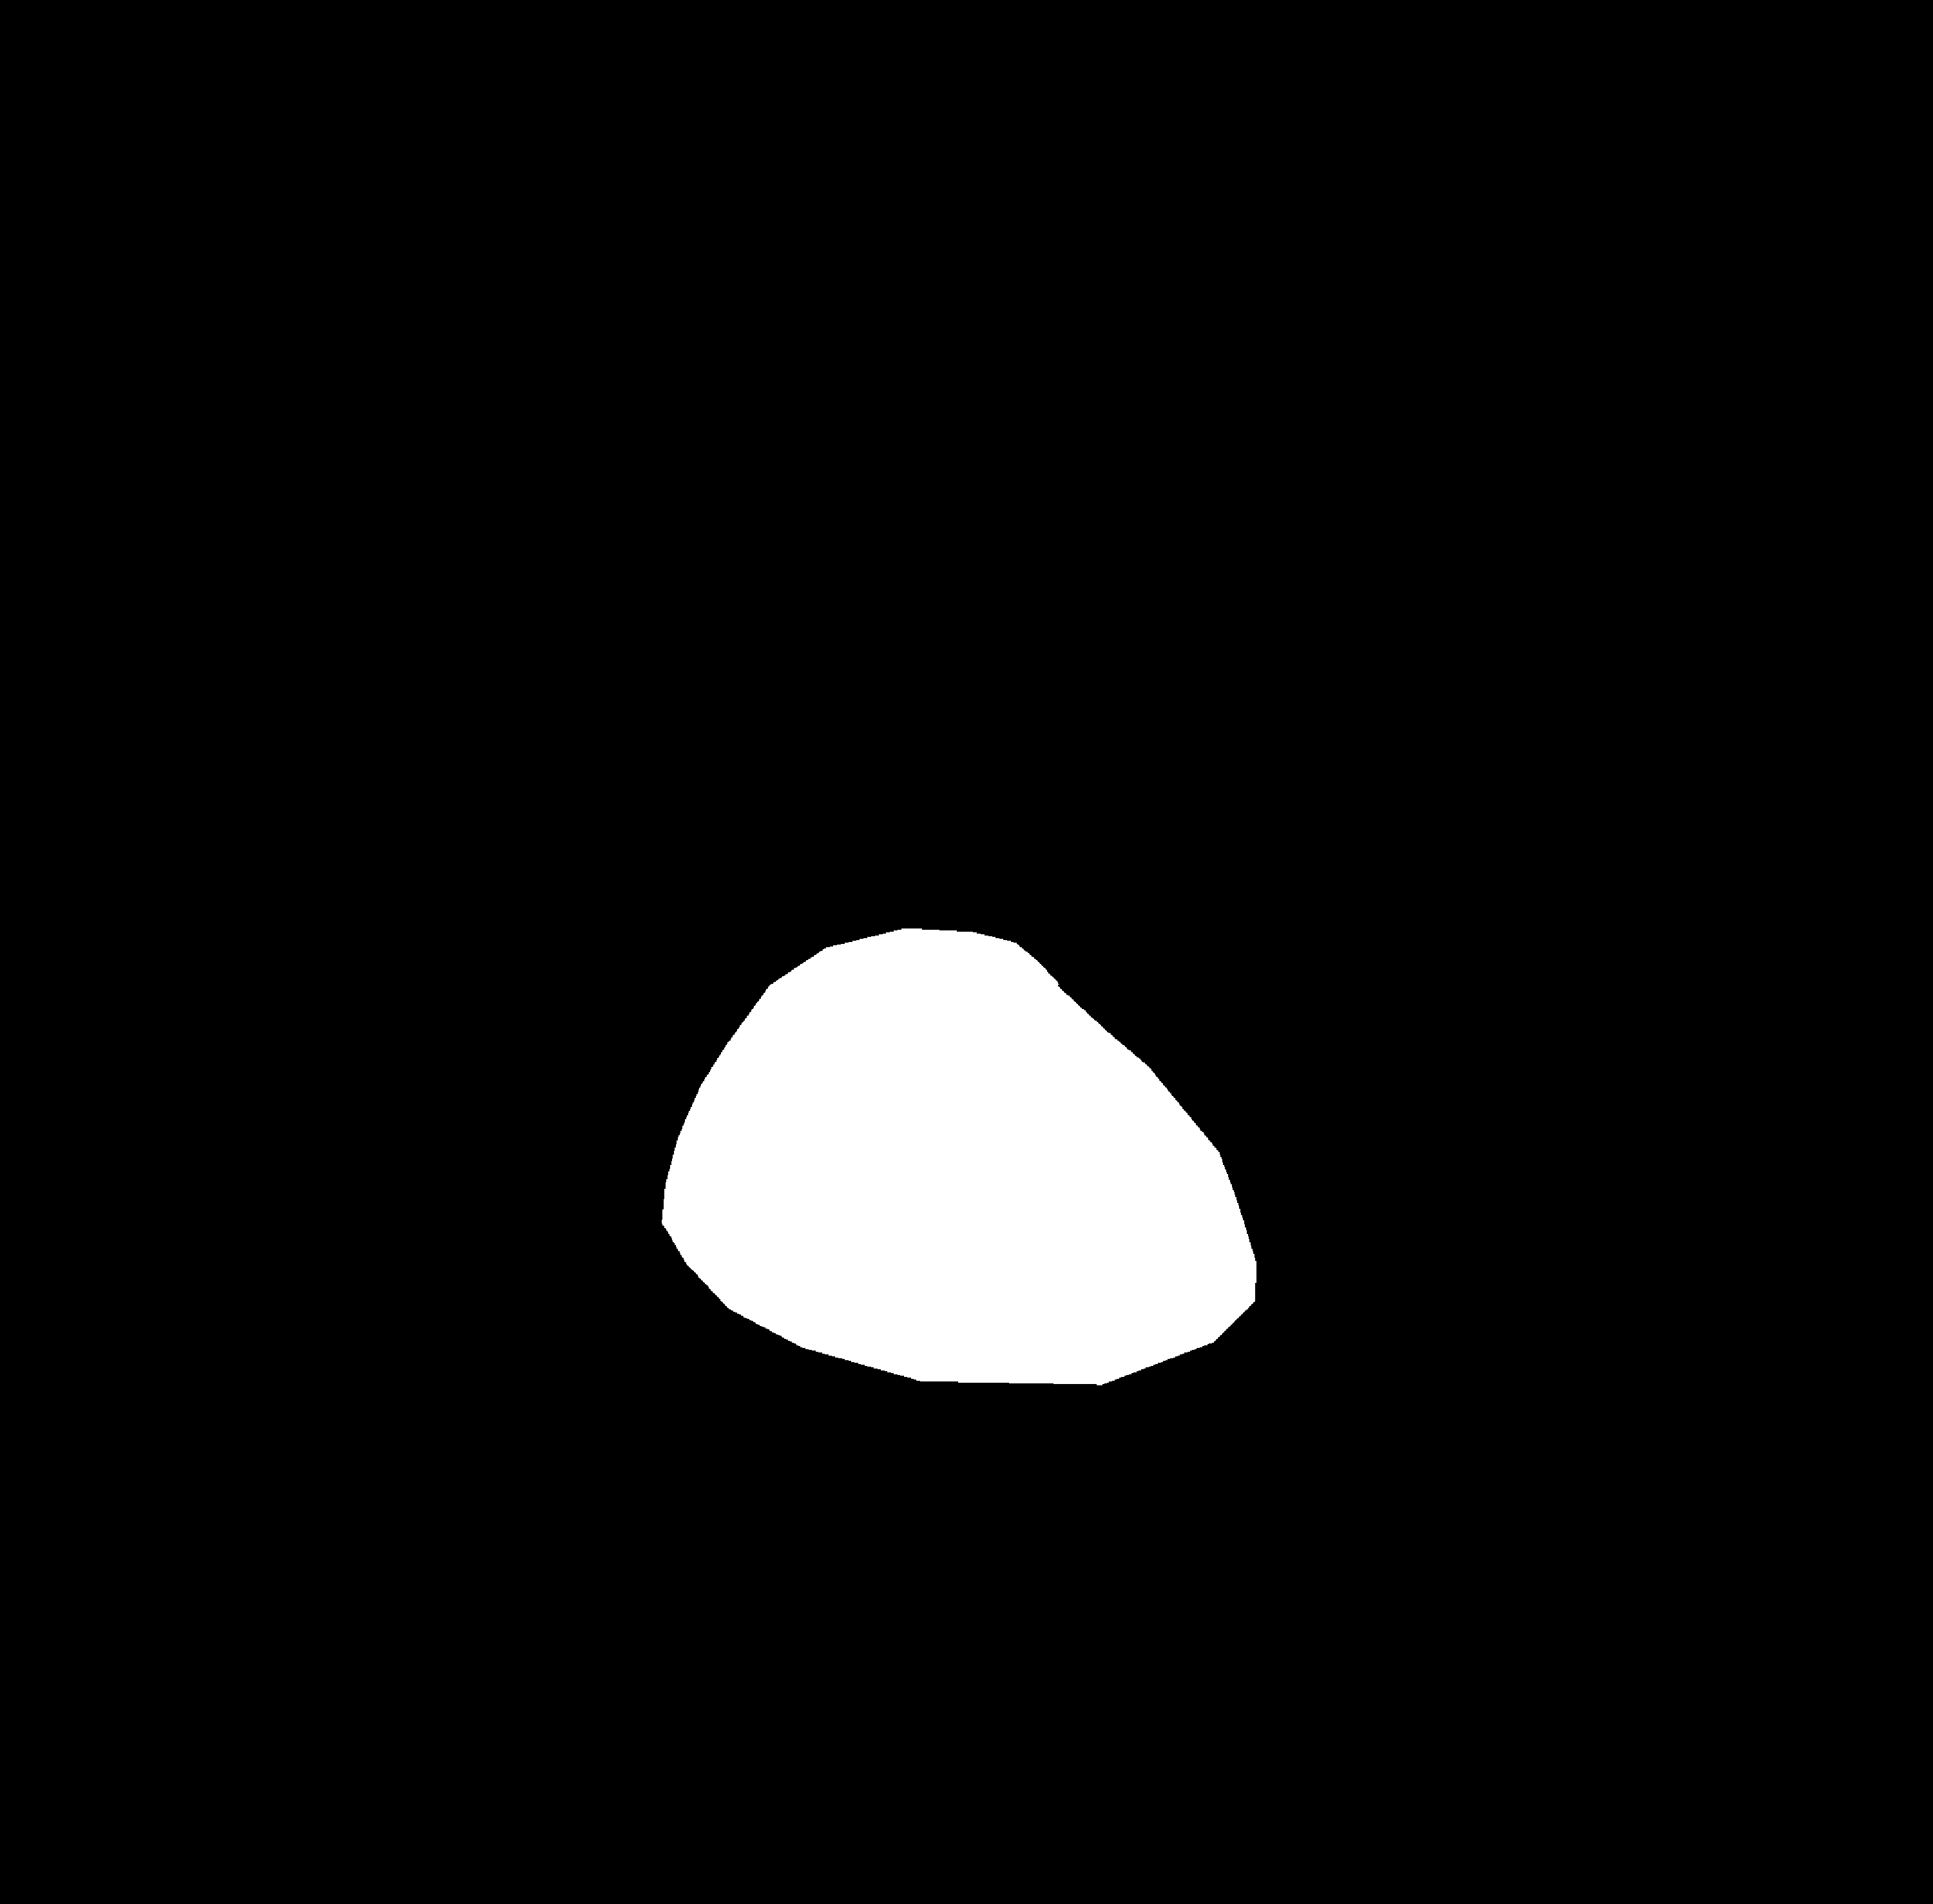heart: (661, 1053, 1251, 1409)
left_lung: (223, 399, 795, 1461)
right_lung: (959, 396, 1490, 1407)
